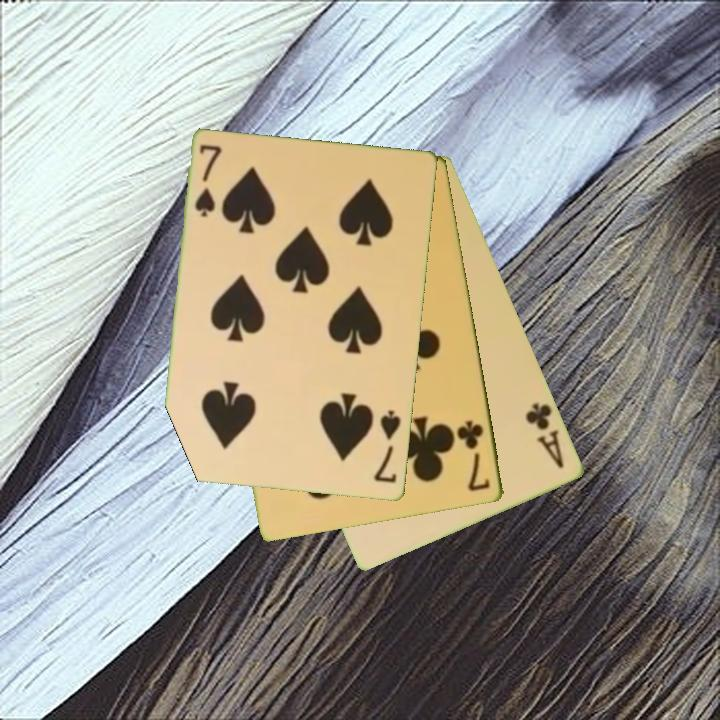7c: (454, 417, 494, 495)
7s: (370, 407, 404, 487), (191, 141, 225, 220)
Ac: (522, 399, 567, 472)
